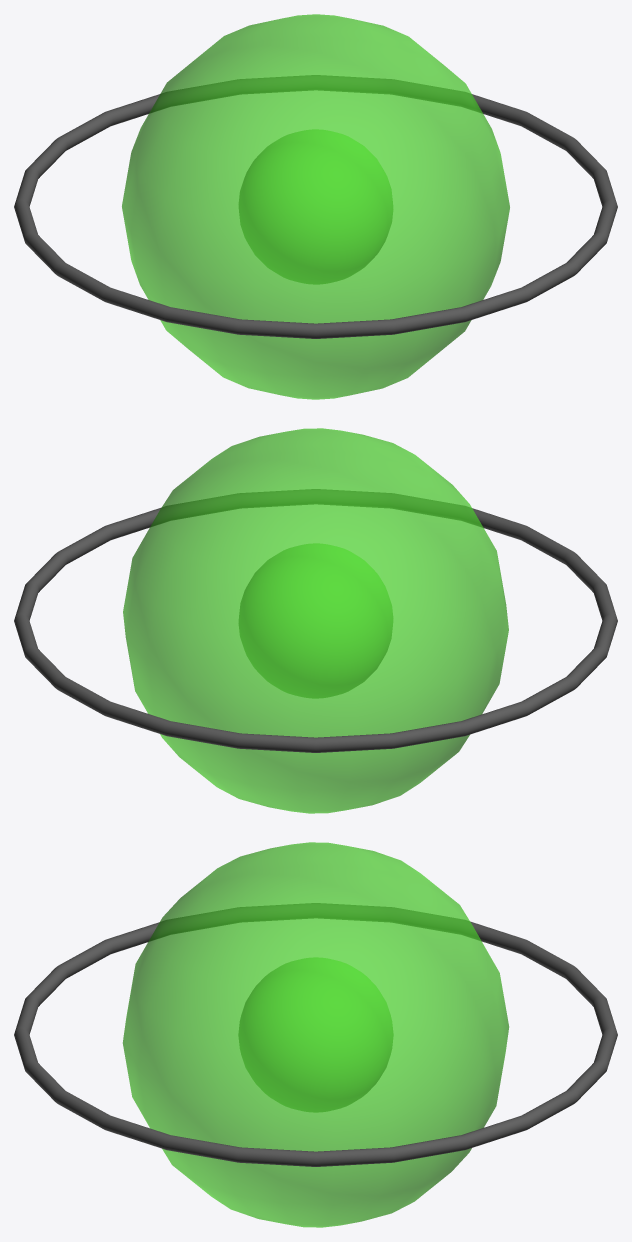
Rendered from simple_003_TransparencyAsMaterialParam_00.dae.
3 views of the same model, one above another, from view 1: azimuth 30°, elevation 25°; view 2: azimuth 150°, elevation 25°; view 3: azimuth 270°, elevation 25° (orthographic).
Parts seen in each view (by area): view 1: pSphere1, pTorus1, pSphere2; view 2: pSphere1, pTorus1, pSphere2; view 3: pSphere1, pTorus1, pSphere2.
Boxes of the visible parts, box(x1,y1,x2,y2) form: pSphere1: box(122, 14, 509, 399); pTorus1: box(14, 75, 617, 338); pSphere2: box(238, 129, 393, 284); pSphere1: box(123, 428, 508, 813); pTorus1: box(14, 489, 617, 752); pSphere2: box(238, 543, 393, 698); pSphere1: box(122, 842, 509, 1227); pTorus1: box(14, 903, 617, 1166); pSphere2: box(238, 957, 393, 1112).
Bounding box in the file's own units: 31.1 × 31.1 × 20.
